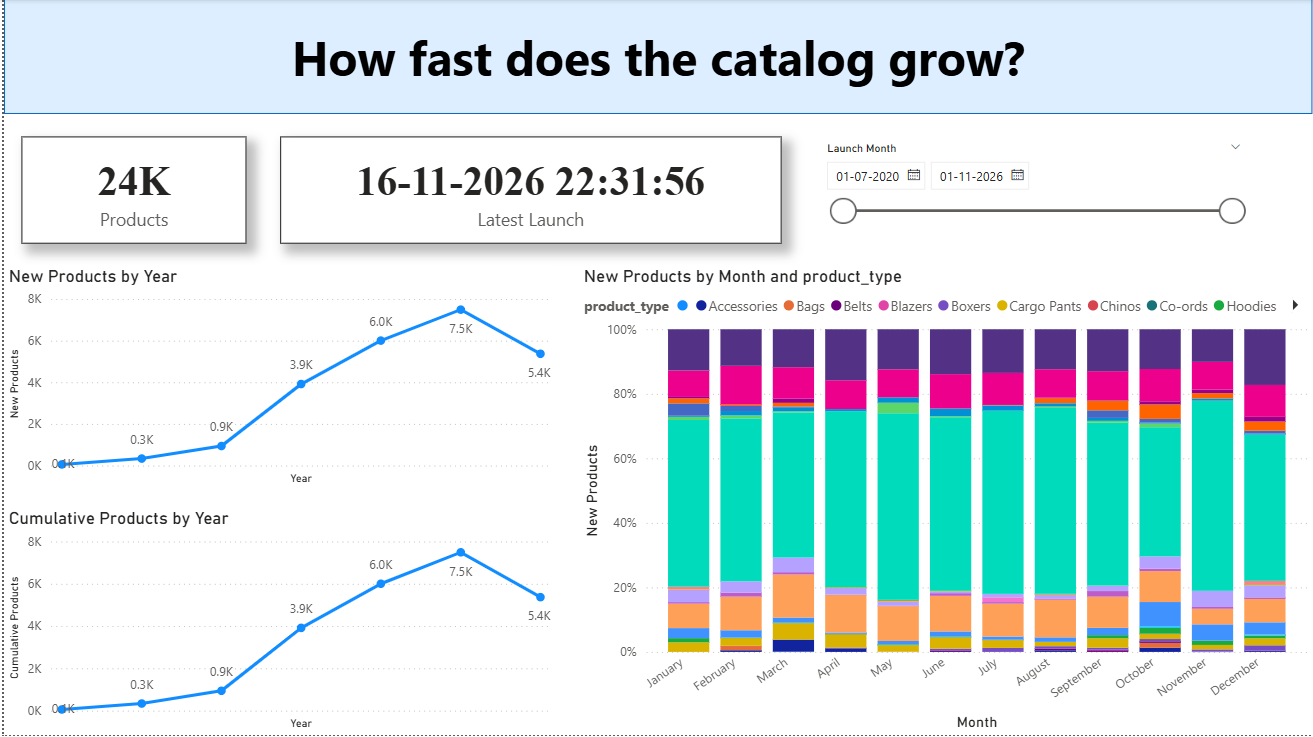

What the dashboard file says about the page in this screenshot:
{"tool":"powerbi","page":{"name":"Catalog Growth","canvas":[1280,720],"ordinal":3},"visuals":[{"type":"card","fields":{"Values":["mart dim_product.Products"]},"box":[17.5,135,220,105],"z":1},{"type":"card","fields":{"Values":["mart dim_product.Latest Launch"]},"box":[270,135,490,105],"z":2},{"type":"lineChart","fields":{"Category":["mart dim_product.Launch Month.Variation.Date Hierarchy.Year","mart dim_product.Launch Month.Variation.Date Hierarchy.Quarter","mart dim_product.Launch Month.Variation.Date Hierarchy.Month","mart dim_product.Launch Month.Variation.Date Hierarchy.Day"],"Y":["mart dim_product.New Products"]},"box":[0,260,540,220],"z":3},{"type":"lineChart","fields":{"Category":["mart dim_product.Launch Month.Variation.Date Hierarchy.Year","mart dim_product.Launch Month.Variation.Date Hierarchy.Quarter","mart dim_product.Launch Month.Variation.Date Hierarchy.Month","mart dim_product.Launch Month.Variation.Date Hierarchy.Day"],"Y":["mart dim_product.Cumulative Products"]},"box":[0,497.5,540,222.5],"z":4},{"type":"hundredPercentStackedColumnChart","fields":{"Series":["mart dim_product.product_type"],"Y":["mart dim_product.New Products"],"Category":["mart dim_product.Launch Month.Variation.Date Hierarchy.Month"]},"box":[562.5,260,717.5,460],"z":5},{"type":"slicer","fields":{"Values":["mart dim_product.Launch Month"]},"box":[792.5,135,430,105],"z":6},{"type":"shape","box":[0,0,1280,112.5],"z":7}]}

Visuals, with their boxes in screenshot pixels (x1, y1, x2, y2), scaled from the page's 1280x720 canvas onto the 1313x737 screenshot:
card - mart dim_product.Products: <box>18,138,244,246</box>
card - mart dim_product.Latest Launch: <box>277,138,780,246</box>
lineChart - mart dim_product.Launch Month.Variation.Date Hierarchy.Year x mart dim_product.Launch Month.Variation.Date Hierarchy.Quarter: <box>0,266,554,491</box>
lineChart - mart dim_product.Launch Month.Variation.Date Hierarchy.Year x mart dim_product.Launch Month.Variation.Date Hierarchy.Quarter: <box>0,509,554,736</box>
hundredPercentStackedColumnChart - mart dim_product.product_type x mart dim_product.New Products: <box>577,266,1312,736</box>
slicer - mart dim_product.Launch Month: <box>813,138,1254,246</box>
shape: <box>0,0,1312,115</box>
